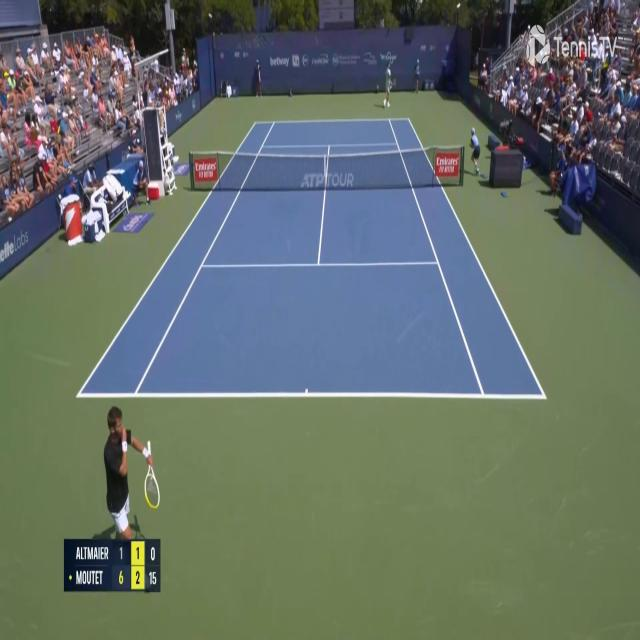tennis-player: (97, 401, 161, 538), (382, 64, 395, 110)
